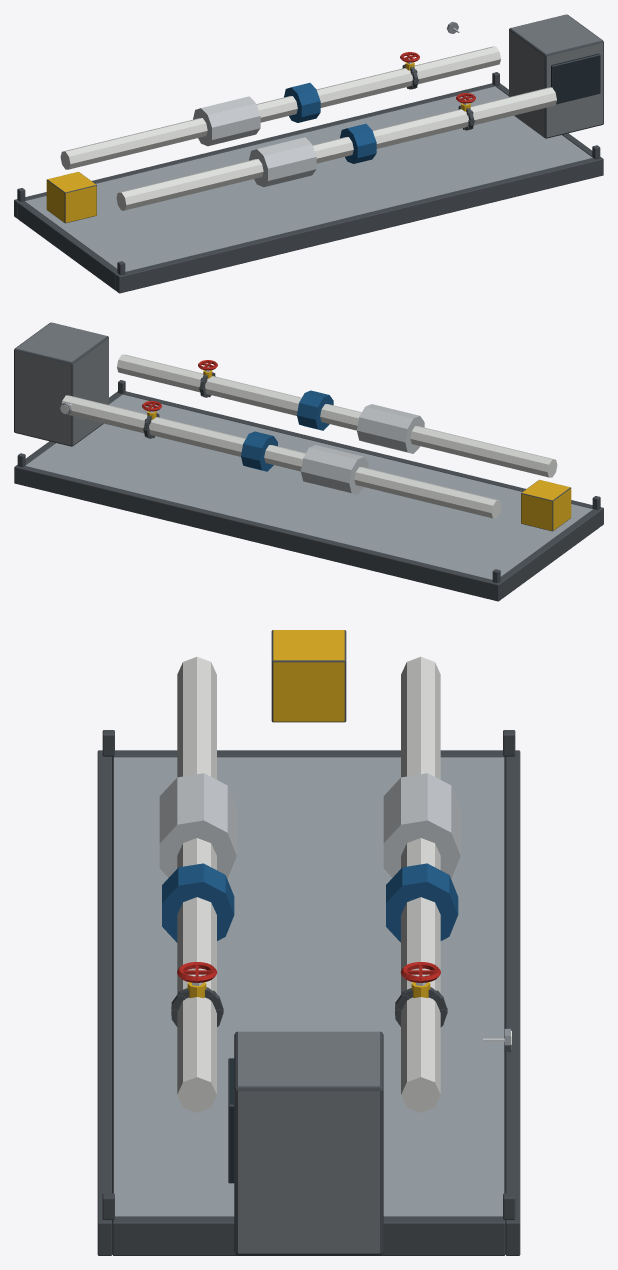
Rendered from on_metering_skid.glb.
3 views of the same model, one above another, from view 1: azimuth 30°, elevation 25°; view 2: azimuth 150°, elevation 25°; view 3: azimuth 270°, elevation 25° (orthographic). The views are drawn at different scales.
Parts seen in each view (by area): view 1: on_metering_skid; view 2: on_metering_skid; view 3: on_metering_skid.
Boxes of the visible parts, x1,y1,x2,y2 form: on_metering_skid: (14, 14, 603, 293); on_metering_skid: (14, 322, 603, 601); on_metering_skid: (97, 630, 520, 1255).
Size of the model in its own units: 9.85 by 1.8 by 3.4.
